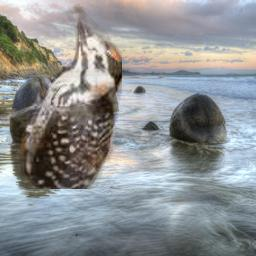Woodpecker: (0, 4, 122, 189)
